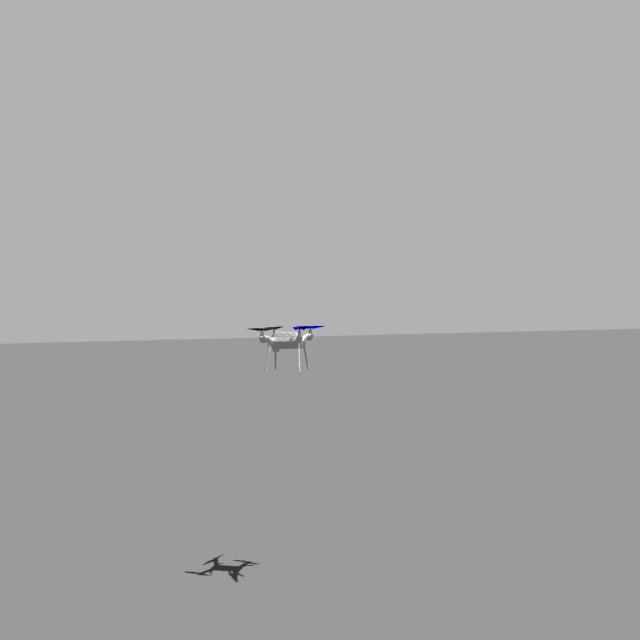Drone: (247, 312, 328, 379)
